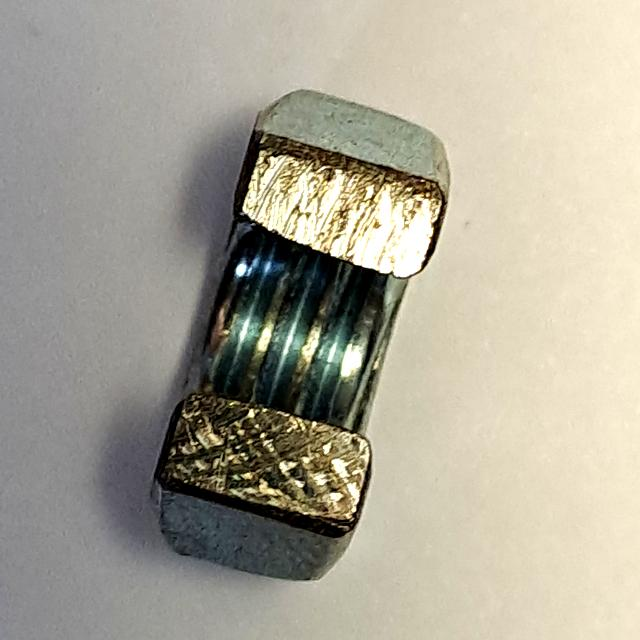Side-Fracture: (130, 83, 467, 595)
